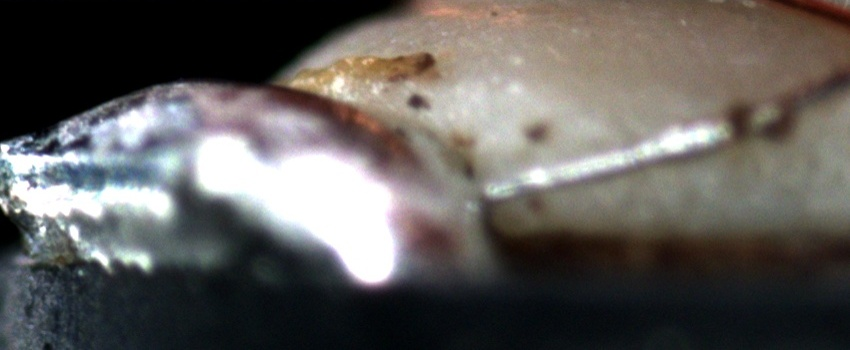TS: (481, 116, 743, 202)
